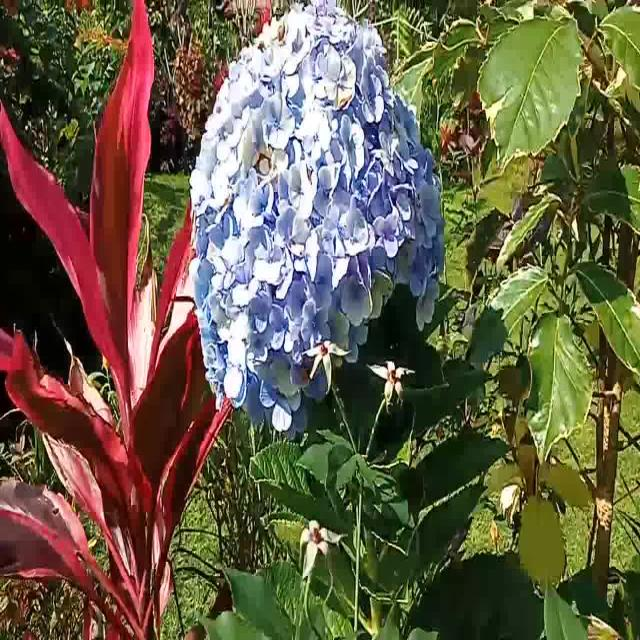Flower: (188, 1, 447, 427)
